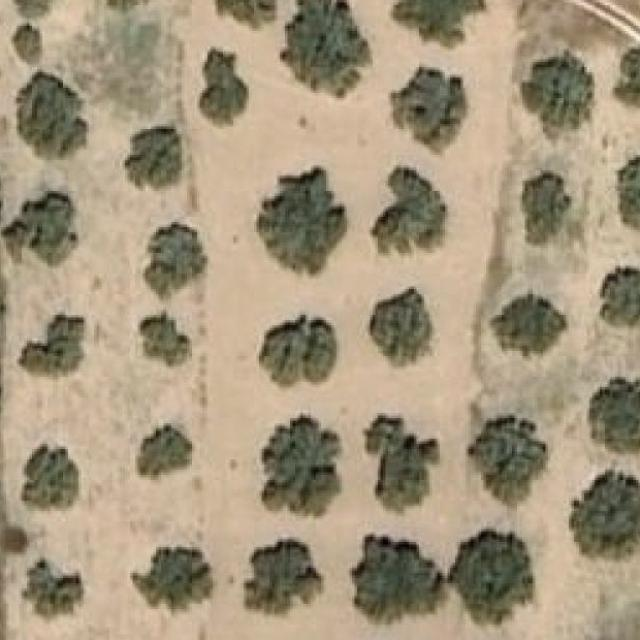Tree: (256, 168, 349, 277), (280, 0, 370, 101), (349, 530, 440, 622), (449, 530, 535, 626), (385, 65, 468, 161), (364, 415, 442, 516), (261, 416, 339, 514), (519, 50, 595, 146), (468, 415, 548, 506), (369, 165, 445, 258), (241, 537, 321, 617), (569, 472, 640, 562), (13, 72, 84, 158), (129, 544, 215, 614), (1, 191, 78, 268), (259, 315, 337, 385), (366, 286, 432, 366), (490, 294, 566, 359), (586, 372, 640, 462), (146, 222, 208, 299), (199, 46, 249, 129), (18, 444, 78, 511), (519, 170, 571, 246), (18, 314, 84, 372), (390, 0, 483, 41), (22, 560, 84, 620), (122, 126, 182, 186), (137, 421, 194, 483), (137, 310, 192, 374), (600, 266, 640, 331), (610, 155, 640, 235), (214, 0, 280, 31), (615, 42, 640, 108), (16, 26, 39, 62), (15, 0, 52, 18), (109, 0, 153, 13)
